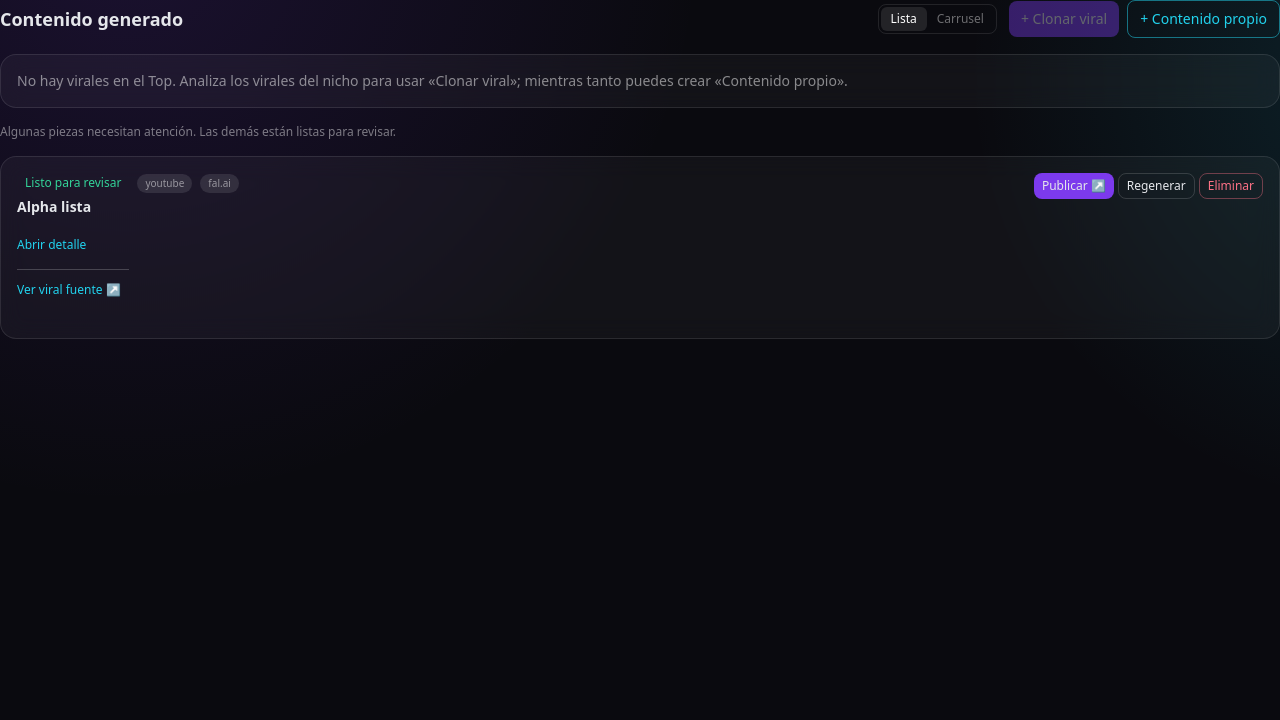
debe_vaciar_detalle_sin_residuo
Check: the text "Alpha lista" is shown, box [17,197,91,216]
Click the button "Eliminar".
click(1231, 186)  # box [1199,173,1263,199]
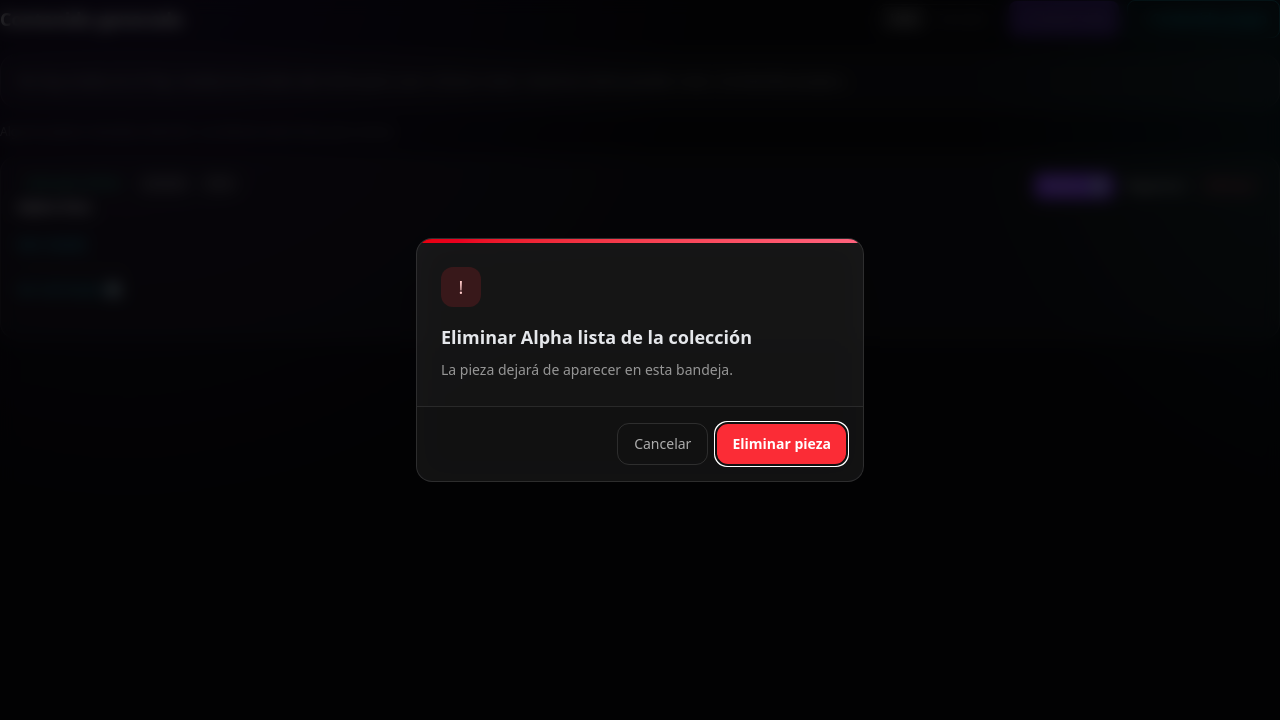
Click the button "Eliminar pieza".
click(782, 444)  # box [716,423,847,465]
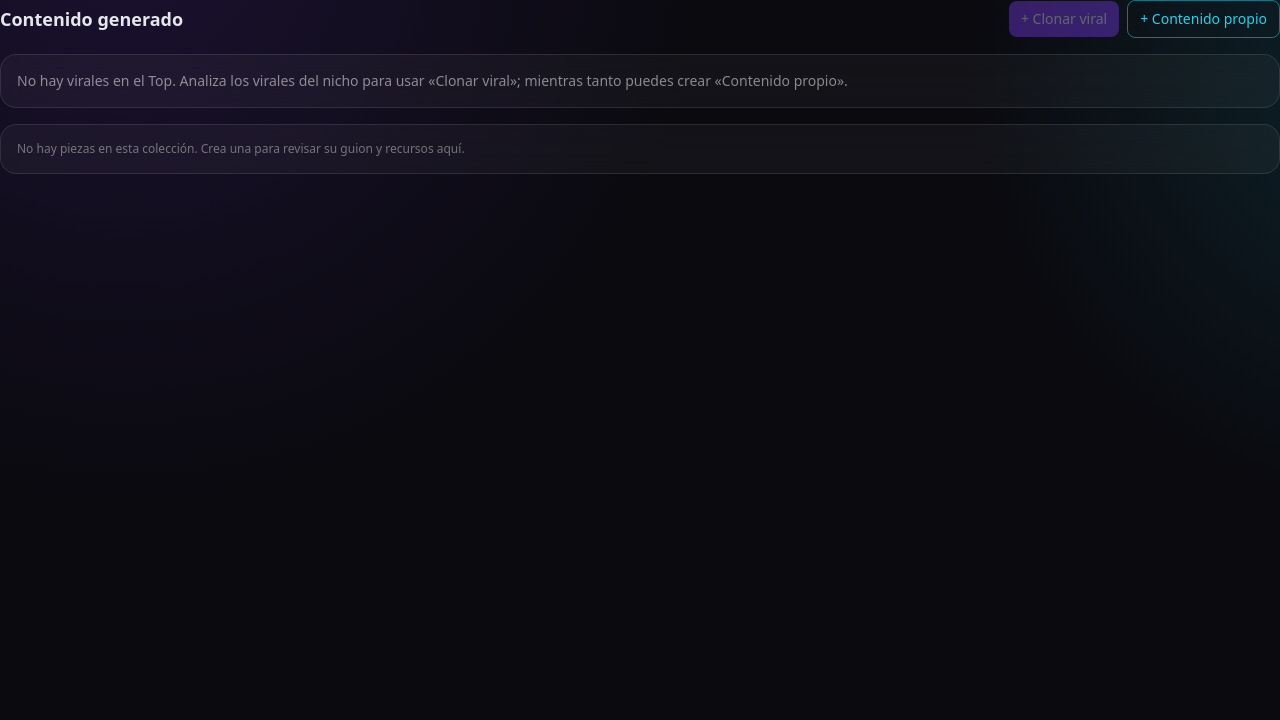
Check: the text "Alpha lista" is not shown
Check: the text "No hay piezas en esta colección. Crea una para revisar su guion y recursos aquí." is shown, box [0,124,1279,174]
